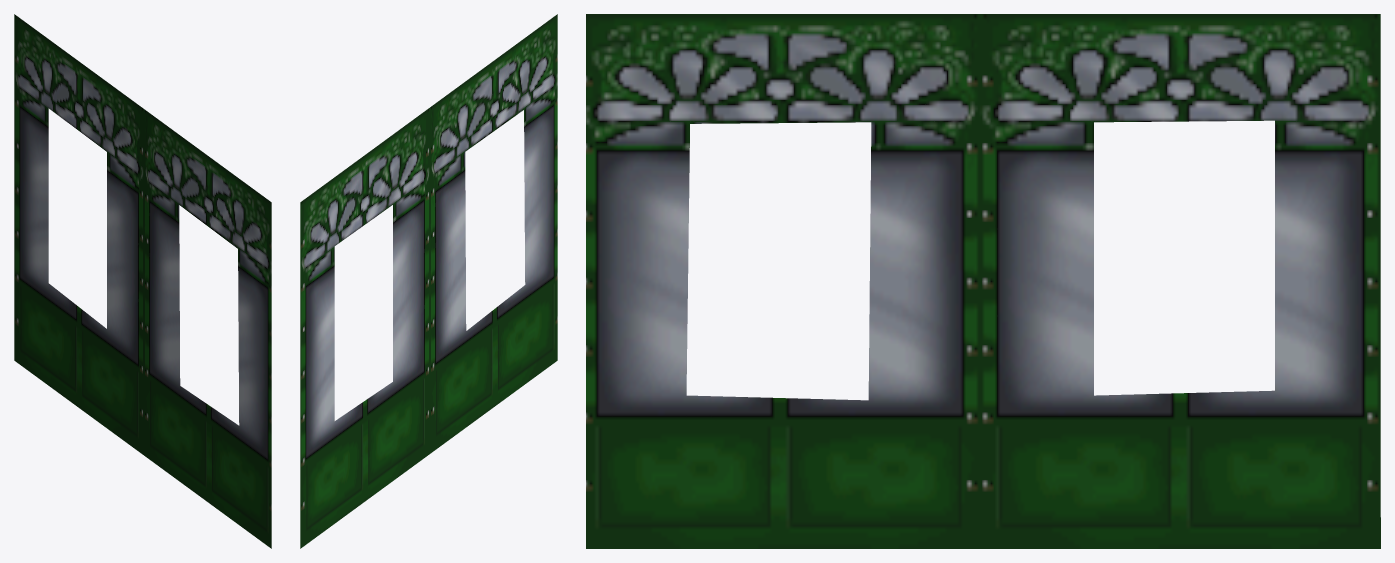
File: W_AI2l_ff [GrünesMetall]_316.glb
3 renders of one model, left to right at view 1: azimuth 30°, elevation 25°; view 2: azimuth 150°, elevation 25°; view 3: azimuth 270°, elevation 25°, orthographic. The views are drawn at different scales.
Parts seen in each view (by area): view 1: pPlaneShape2; view 2: pPlaneShape2; view 3: pPlaneShape2.
Part boxes in pixels (left/top/right/bottom): pPlaneShape2: left=14, top=14, right=271, bottom=548; pPlaneShape2: left=300, top=14, right=557, bottom=548; pPlaneShape2: left=586, top=14, right=1380, bottom=548.
Bounding box in the file's own units: 1.58e-07 × 0.3486 × 0.4693.
1 material, 1 textured.
